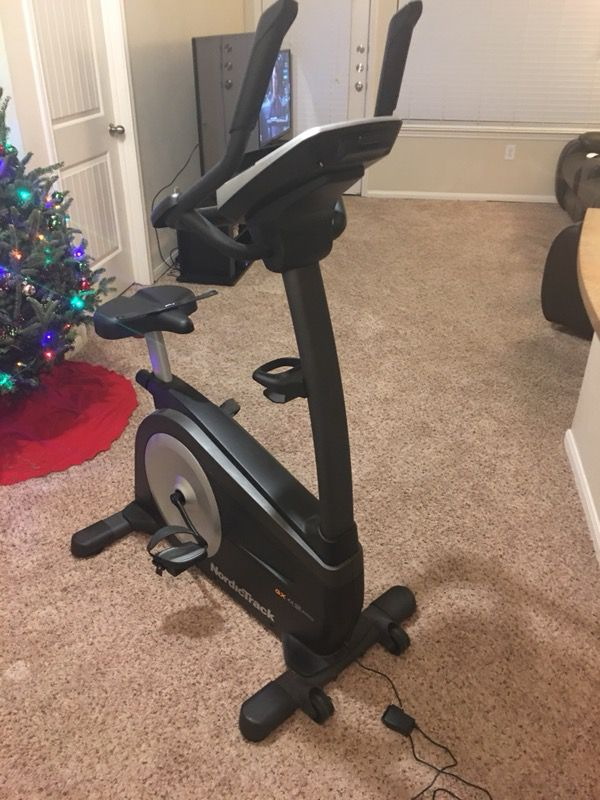gym_bike: (54, 1, 475, 747)
